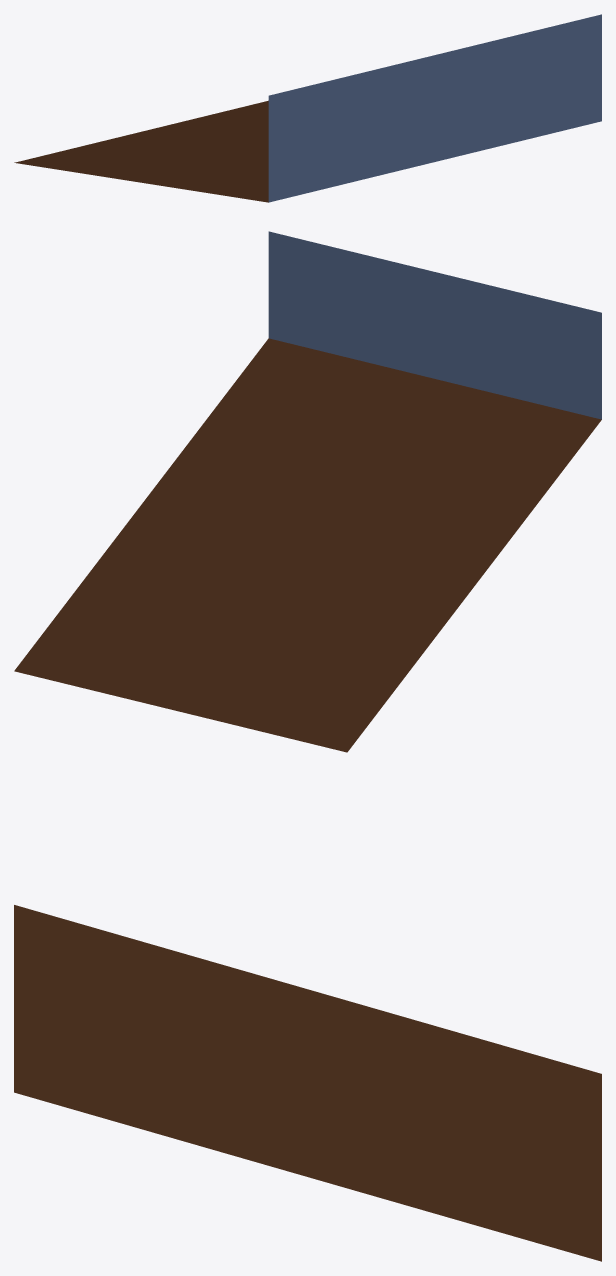
Rendered from placeholder.glb.
3 renders of one model, top to bottom at view 1: azimuth 30°, elevation 25°; view 2: azimuth 150°, elevation 25°; view 3: azimuth 270°, elevation 25°, orthographic. The views are drawn at different scales.
Visible parts, largest first — view 1: Plane.002; view 2: Plane.002; view 3: Plane.002.
Part boxes in pixels (x1,y1,x2,y2): Plane.002: (14,14,601,202); Plane.002: (14,231,601,752); Plane.002: (14,905,601,1261).
Size of the model in its own units: 5.87 by 4.27 by 7.77.
